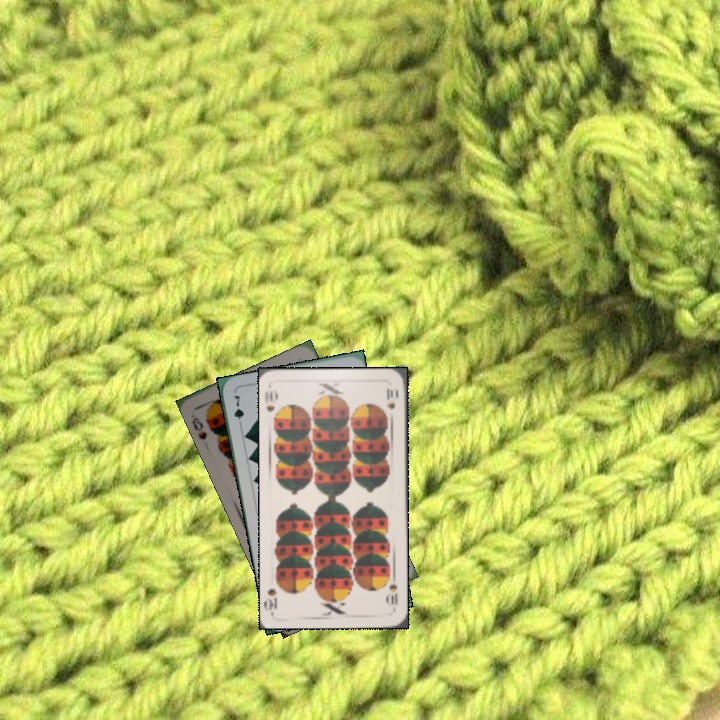G7: (230, 391, 247, 431)
S10: (262, 386, 282, 424), (383, 580, 400, 607)
S8: (187, 410, 210, 442)
